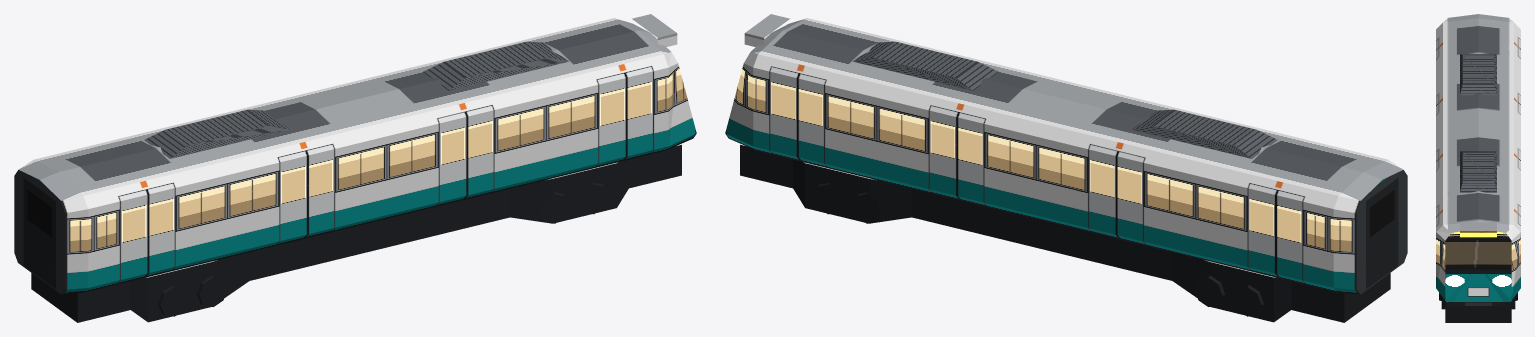
Rendered from pneumatic_generic__neutral__cab.glb.
3 renders of one model, left to right at view 1: azimuth 30°, elevation 25°; view 2: azimuth 150°, elevation 25°; view 3: azimuth 270°, elevation 25°, orthographic. The views are drawn at different scales.
Visible parts, largest first — view 1: pneumatic_generic__neutral__cab; view 2: pneumatic_generic__neutral__cab; view 3: pneumatic_generic__neutral__cab.
Boxes of the visible parts, x1,y1,x2,y2 form: pneumatic_generic__neutral__cab: (14, 14, 696, 322); pneumatic_generic__neutral__cab: (725, 14, 1407, 322); pneumatic_generic__neutral__cab: (1436, 14, 1520, 322).
Bounding box in the file's own units: 15.06 × 3.47 × 2.44.
Materials: 1 (1 with a texture image).
